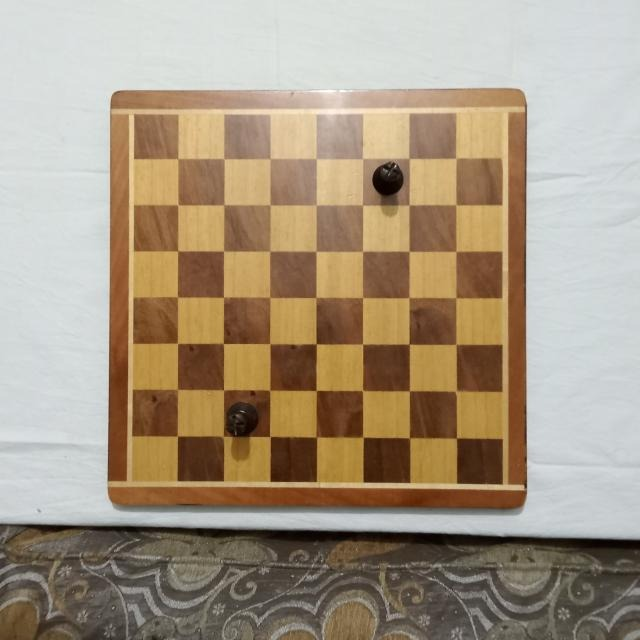black-rook: (223, 399, 261, 436), (370, 159, 405, 197)
